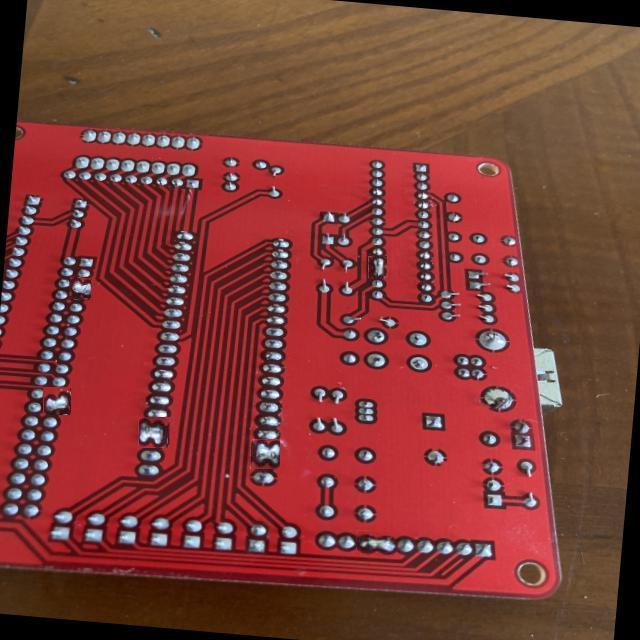damged: (356, 530, 396, 556), (139, 417, 169, 448), (250, 440, 280, 470), (43, 388, 71, 415), (69, 278, 91, 299), (368, 256, 387, 278)
